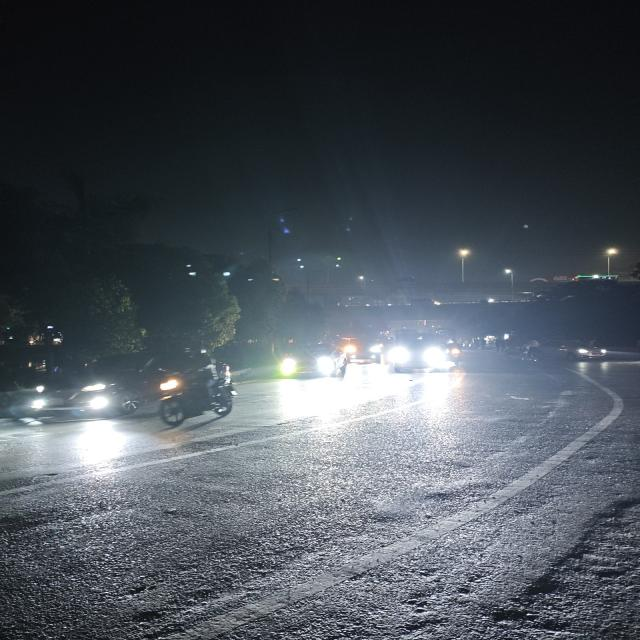car: (21, 358, 148, 424), (277, 343, 344, 378), (389, 333, 444, 374), (533, 341, 608, 362), (347, 338, 385, 366)
motorcycle: (151, 354, 241, 429), (449, 337, 465, 368)
pedestrian: (525, 337, 537, 362)
